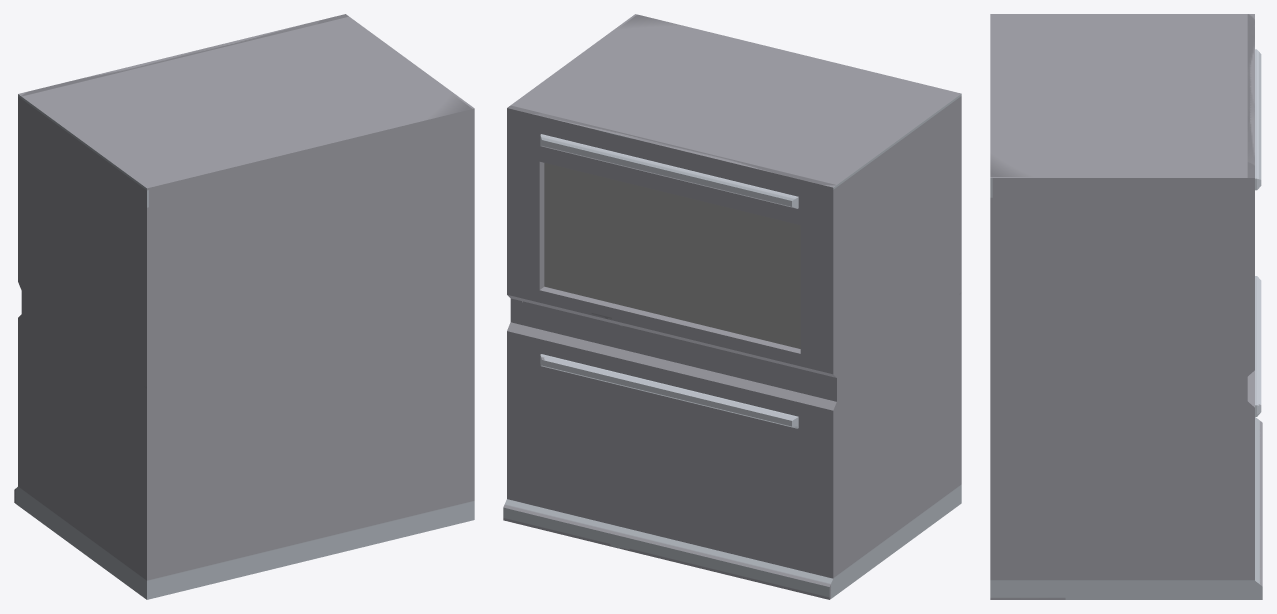
File: oven.fbx
3 renders of one model, left to right at view 1: azimuth 30°, elevation 25°; view 2: azimuth 150°, elevation 25°; view 3: azimuth 270°, elevation 25°, orthographic. The views are drawn at different scales.
Parts seen in each view (by area): view 1: Oven1; view 2: Oven1, kf_oven_glass; view 3: Oven1.
Boxes of the visible parts, x1,y1,x2,y2 form: Oven1: (14, 14, 474, 599); Oven1: (503, 14, 961, 599); kf_oven_glass: (544, 163, 800, 348); Oven1: (990, 14, 1262, 599).
Size of the model in its own units: 159 by 191 by 112.
2 materials, 1 textured.
